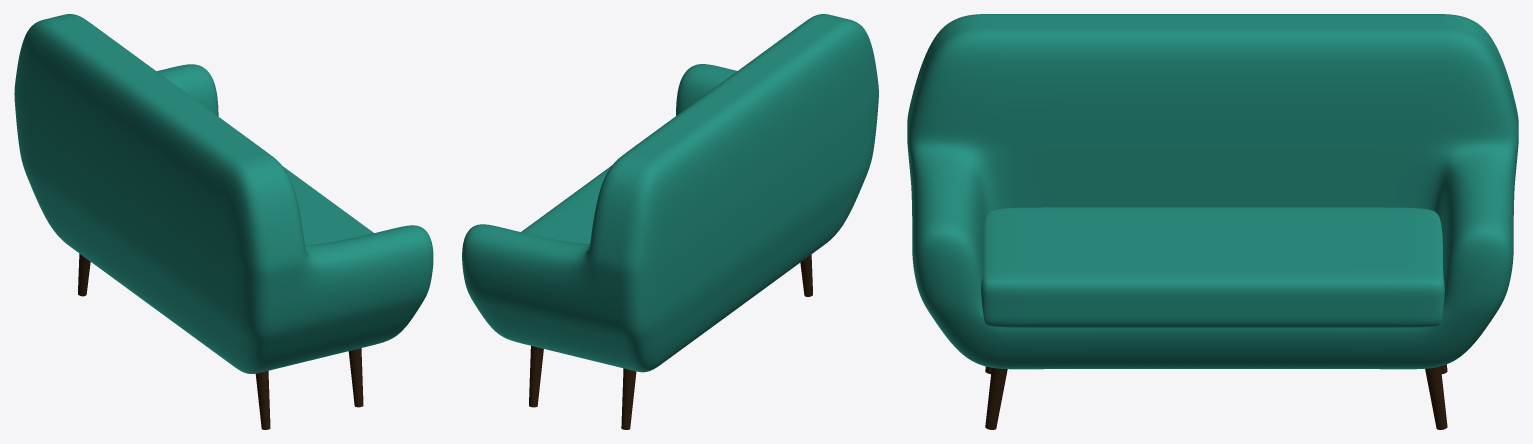
File: canape.gltf
3 renders of one model, left to right at view 1: azimuth 30°, elevation 25°; view 2: azimuth 150°, elevation 25°; view 3: azimuth 270°, elevation 25°, orthographic. The views are drawn at different scales.
Parts seen in each view (by area): view 1: Cube.050; view 2: Cube.050; view 3: Cube.050.
Part boxes in pixels (left/top/right/bottom): Cube.050: left=14, top=14, right=433, bottom=429; Cube.050: left=462, top=14, right=878, bottom=429; Cube.050: left=907, top=14, right=1518, bottom=429.
Bounding box in the file's own units: 0.3193 × 0.4472 × 0.7278.
